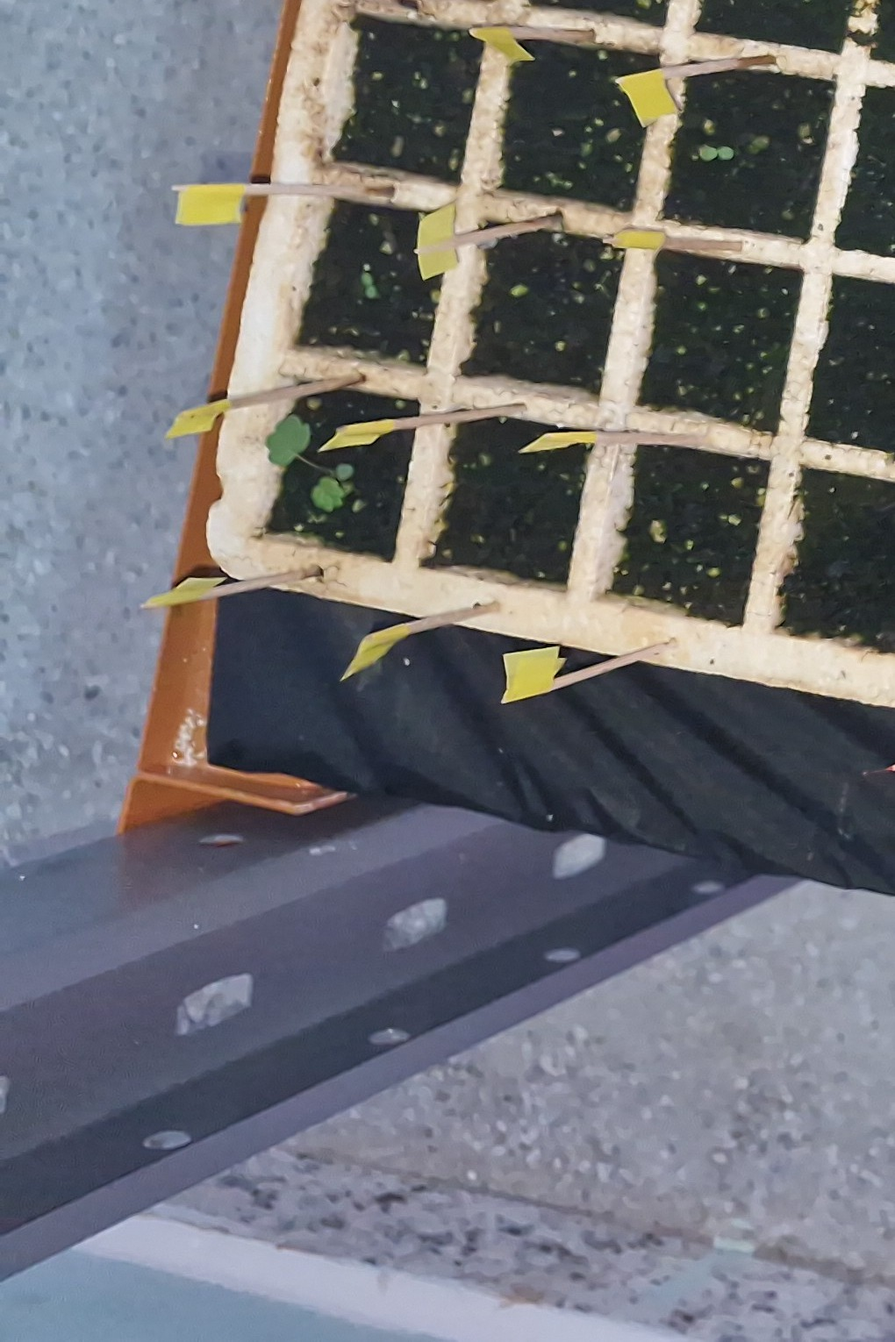Folha: (266, 414, 310, 466), (312, 477, 344, 513), (336, 464, 353, 480), (699, 147, 717, 160), (718, 147, 733, 159), (361, 273, 372, 286)
Germinacao: (267, 414, 354, 513), (701, 147, 733, 160), (361, 273, 376, 298)
